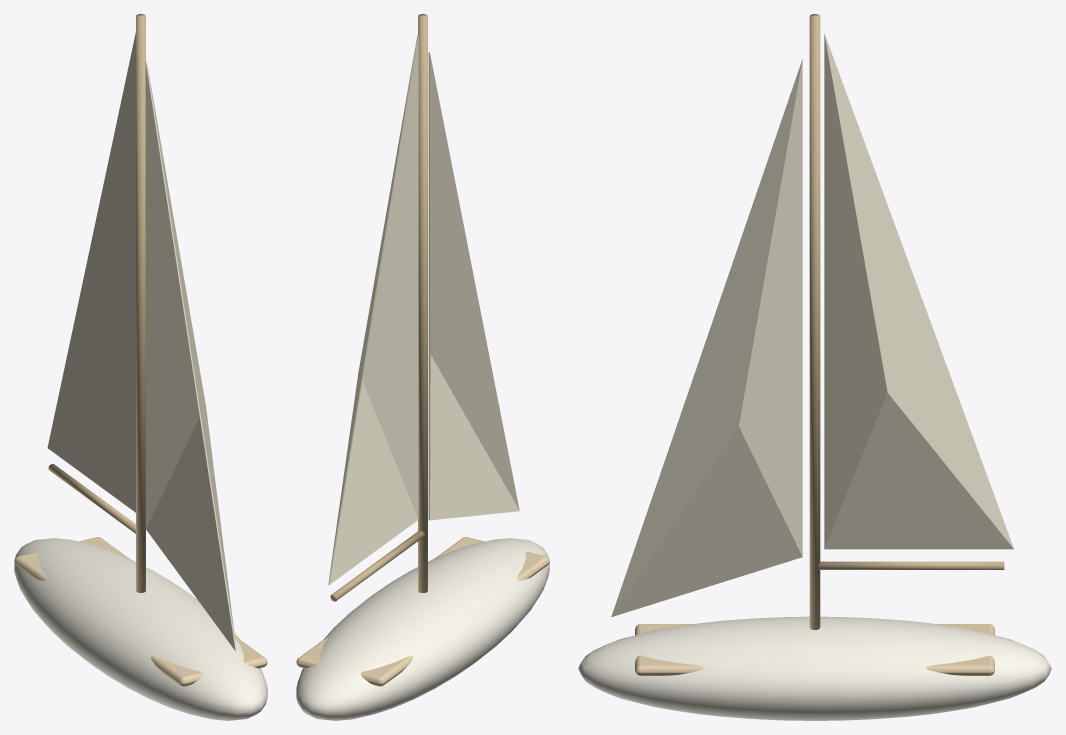
Rendered from sailboat.glb.
3 views of the same model, side by side, from view 1: azimuth 30°, elevation 25°; view 2: azimuth 150°, elevation 25°; view 3: azimuth 270°, elevation 25° (orthographic). The views are drawn at different scales.
Parts seen in each view (by area): view 1: Jib, Sailboat_hull, Main_sail, Mast, Teak_deck, Boom; view 2: Sailboat_hull, Main_sail, Jib, Mast, Teak_deck, Boom; view 3: Main_sail, Jib, Sailboat_hull, Mast, Teak_deck, Boom.
Part boxes in pixels (x1=…): Jib: x1=145, y1=61, x2=236, y2=651; Sailboat_hull: x1=14, y1=538, x2=267, y2=720; Main_sail: x1=47, y1=32, x2=135, y2=512; Mast: x1=136, y1=14, x2=145, y2=592; Teak_deck: x1=14, y1=537, x2=267, y2=686; Boom: x1=48, y1=463, x2=135, y2=533; Sailboat_hull: x1=296, y1=538, x2=549, y2=720; Main_sail: x1=328, y1=35, x2=418, y2=584; Jib: x1=428, y1=52, x2=519, y2=520; Mast: x1=418, y1=14, x2=427, y2=592; Teak_deck: x1=296, y1=537, x2=549, y2=686; Boom: x1=330, y1=530, x2=424, y2=601; Main_sail: x1=824, y1=33, x2=1013, y2=549; Jib: x1=611, y1=59, x2=802, y2=616; Sailboat_hull: x1=578, y1=616, x2=1051, y2=720; Mast: x1=809, y1=14, x2=820, y2=629; Teak_deck: x1=635, y1=624, x2=994, y2=675; Boom: x1=818, y1=561, x2=1004, y2=569.
Size of the model in its own units: 1.6 by 8.08 by 5.
